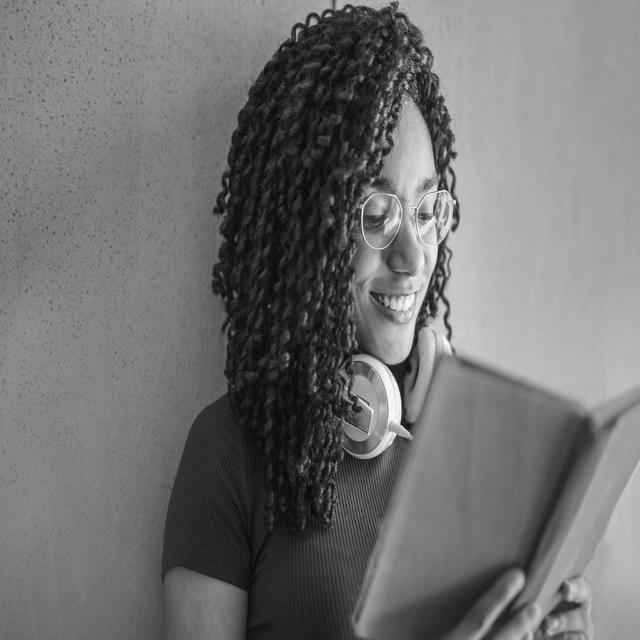Happiness: (348, 97, 448, 368)
